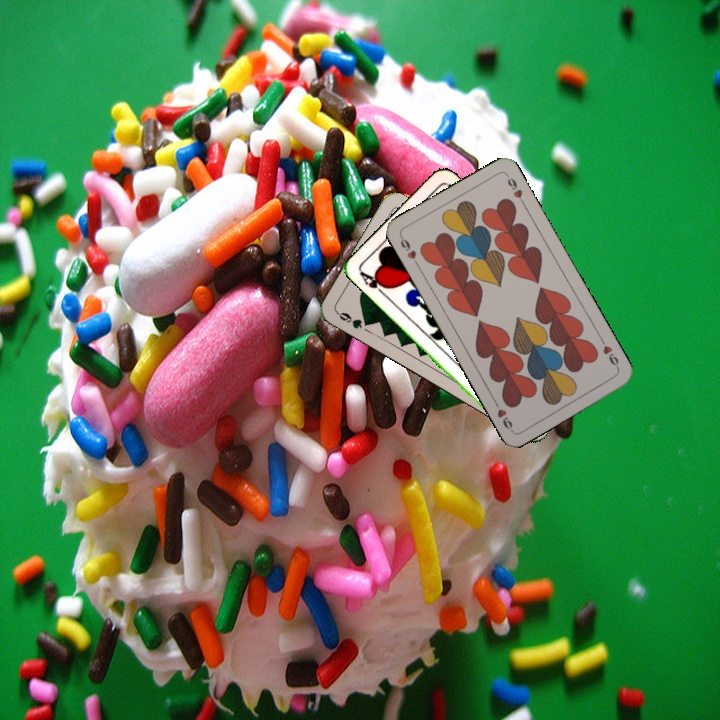G9: (333, 308, 373, 332)
H9: (596, 334, 622, 372), (396, 232, 422, 269)
HA: (356, 267, 391, 300)
